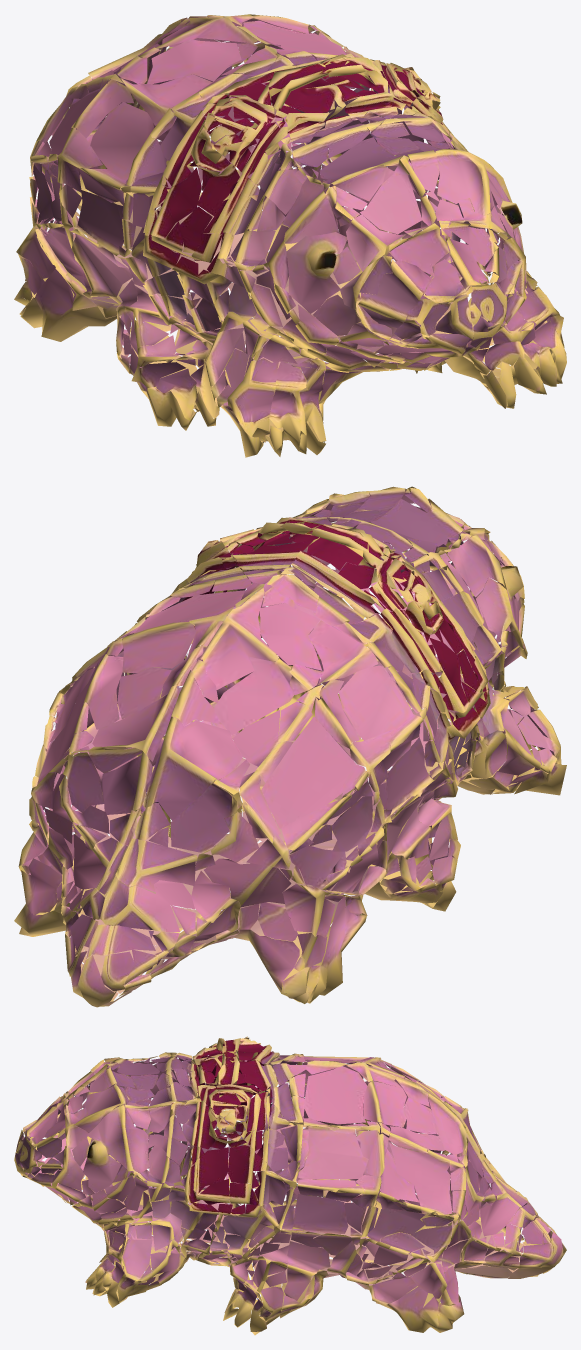
File: tardigrade.glb
3 renders of one model, top to bottom at view 1: azimuth 30°, elevation 25°; view 2: azimuth 150°, elevation 25°; view 3: azimuth 270°, elevation 25°, orthographic. The views are drawn at different scales.
Parts seen in each view (by area): view 1: charm-tardigrade; view 2: charm-tardigrade; view 3: charm-tardigrade.
Boxes of the visible parts, <box> form: charm-tardigrade: <box>14,14,566,457</box>; charm-tardigrade: <box>14,486,566,1007</box>; charm-tardigrade: <box>14,1036,566,1335</box>.
Bounding box in the file's own units: 0.491 × 0.4778 × 1.
1 material, 1 textured.
